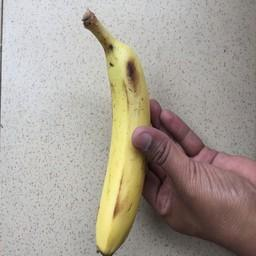Banana Ripe: (60, 1, 170, 256)
